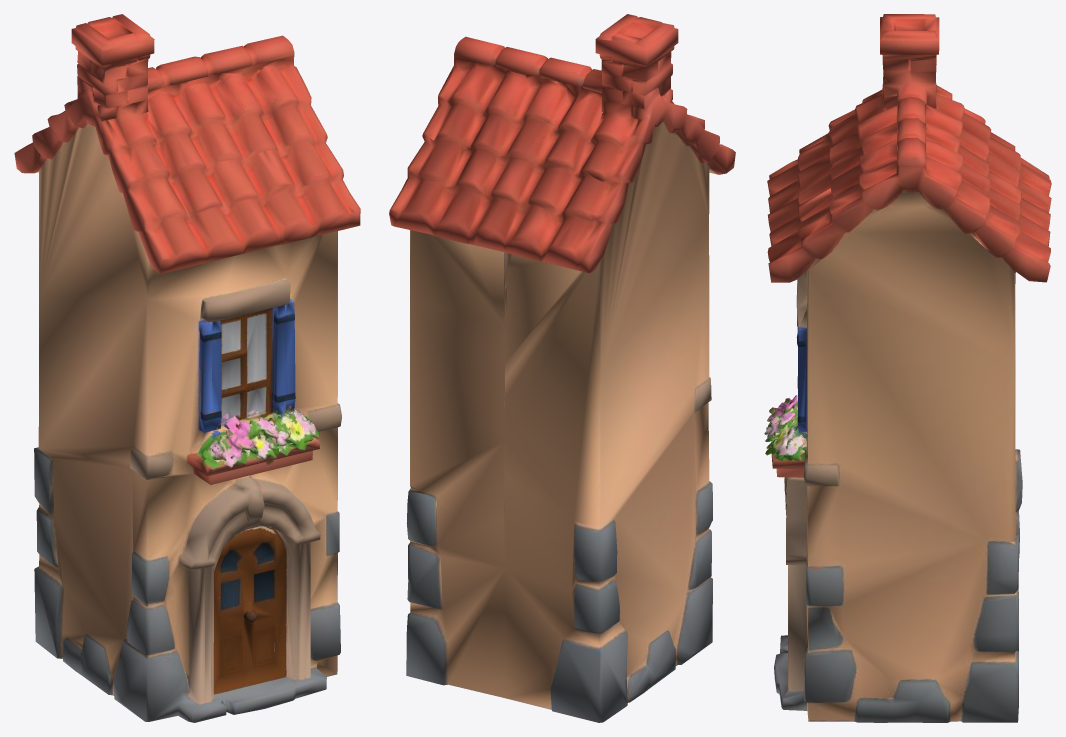
File: house_terra_7.glb
3 renders of one model, left to right at view 1: azimuth 30°, elevation 25°; view 2: azimuth 150°, elevation 25°; view 3: azimuth 270°, elevation 25°, orthographic. The views are drawn at different scales.
Parts seen in each view (by area): view 1: ЦІЛЬ; view 2: ЦІЛЬ; view 3: ЦІЛЬ.
Part boxes in pixels (<box>): ЦІЛЬ: <box>14,14,360,722</box>; ЦІЛЬ: <box>389,14,735,722</box>; ЦІЛЬ: <box>764,14,1051,722</box>.
Bounding box in the file's own units: 0.6415 × 1.95 × 0.8229.
1 material, 1 textured.
